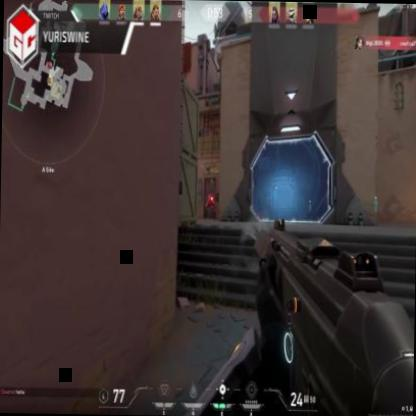enemy: (204, 188, 214, 218)
enemy_head: (208, 188, 211, 194)
